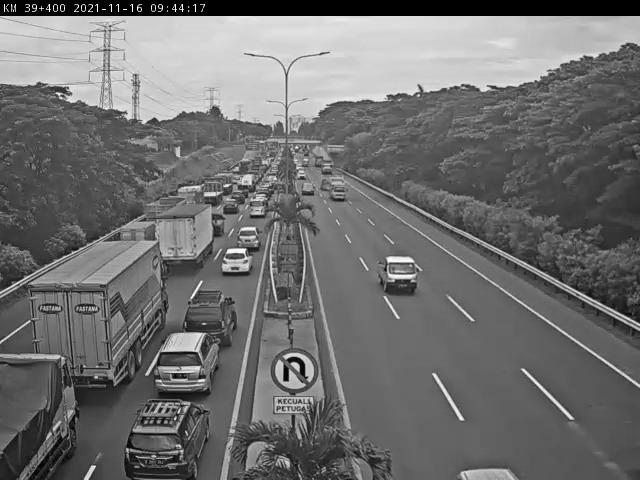car: (128, 394, 213, 480), (161, 328, 222, 400), (185, 288, 244, 346), (379, 255, 421, 294), (216, 247, 258, 274), (235, 224, 262, 256), (202, 214, 225, 236), (300, 180, 315, 196), (194, 327, 197, 331)
small truck: (121, 215, 156, 241)
truck-l-: (28, 239, 169, 392), (199, 181, 224, 204), (213, 173, 233, 194)
truck-m-: (0, 350, 90, 480), (156, 202, 213, 270)
